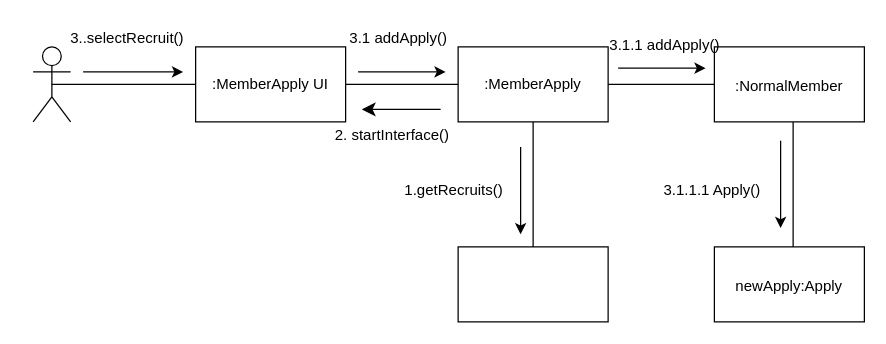
Some shapes in this 886 by 344 pixel diagram are drawn without their labels. The centre of each missing label's shape, as x and y in pixels:
":Recruit" belongs at pixel 532 284.
"일반 회원" belongs at pixel 51 84.
